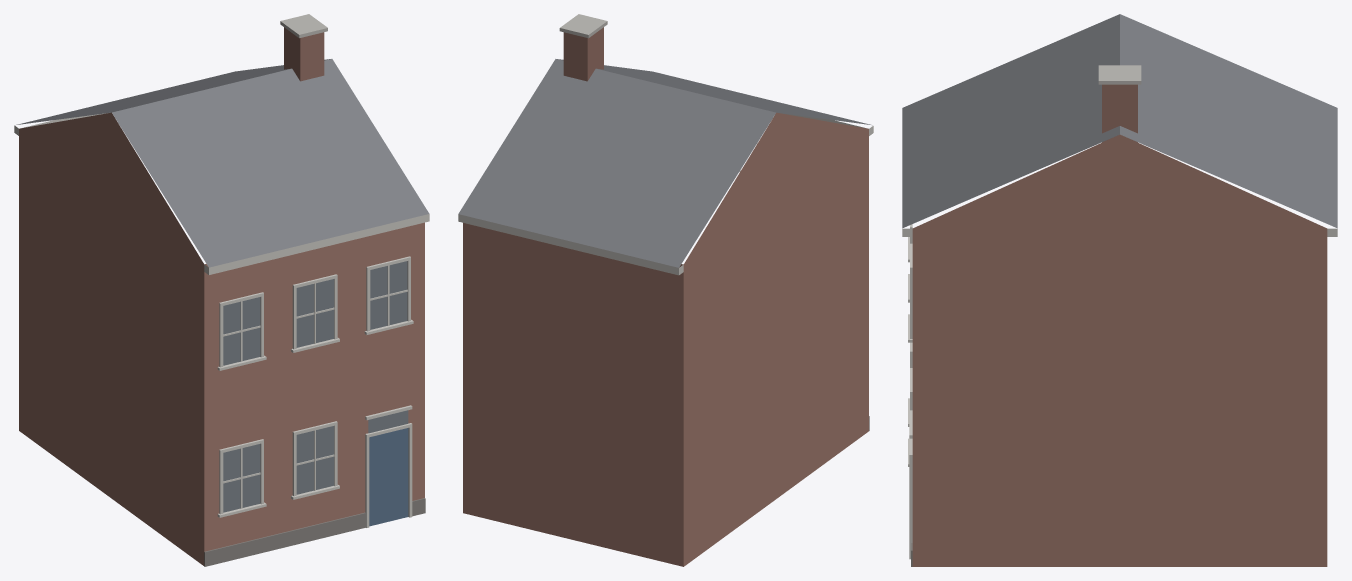
Rendered from terrace_55.glb.
3 renders of one model, left to right at view 1: azimuth 30°, elevation 25°; view 2: azimuth 150°, elevation 25°; view 3: azimuth 270°, elevation 25°, orthographic. The views are drawn at different scales.
Visible parts, largest first — view 1: Part0; view 2: Part0; view 3: Part0.
Part boxes in pixels (x1=…): Part0: x1=14, y1=14, x2=429, y2=566; Part0: x1=458, y1=14, x2=873, y2=566; Part0: x1=902, y1=14, x2=1337, y2=566.
Size of the model in its own units: 5.5 by 10.18 by 8.4.
